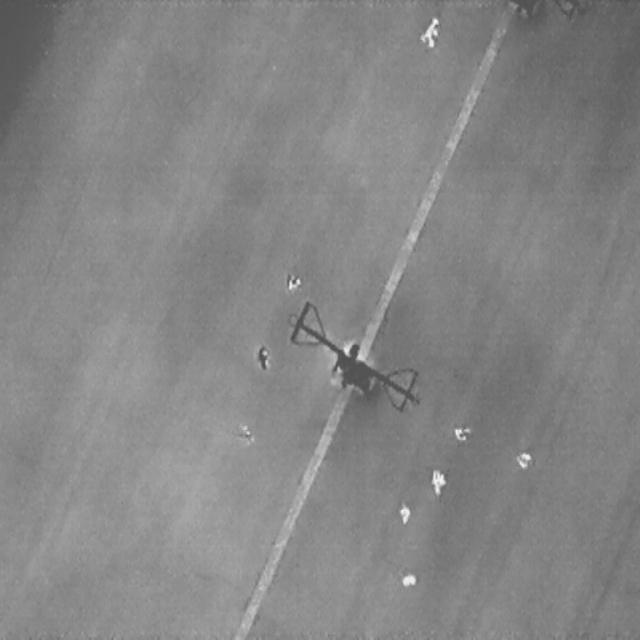Person: (419, 12, 438, 48), (428, 468, 447, 498), (255, 343, 271, 375), (398, 569, 417, 589), (512, 450, 531, 469), (451, 422, 471, 440), (396, 501, 410, 524), (284, 272, 301, 290), (238, 424, 252, 444)
